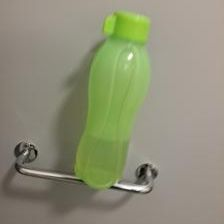bottle: (74, 9, 156, 192)
